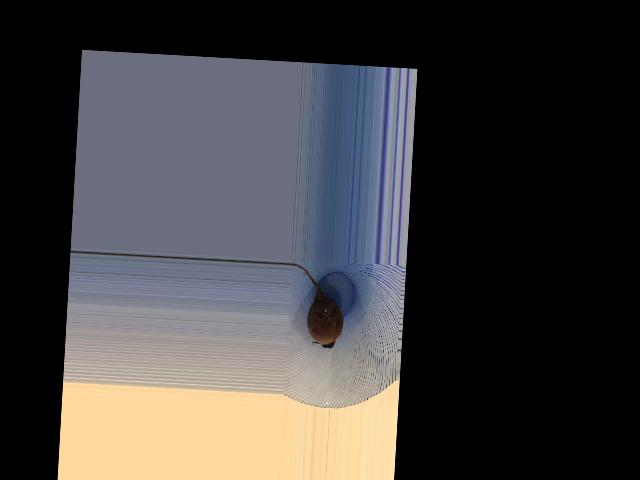beet: (285, 263, 346, 349)
